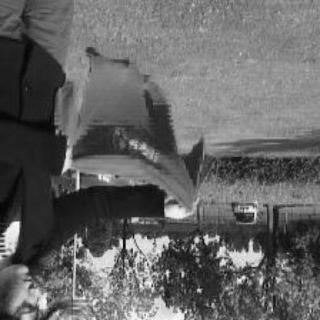other: (44, 43, 214, 221)
